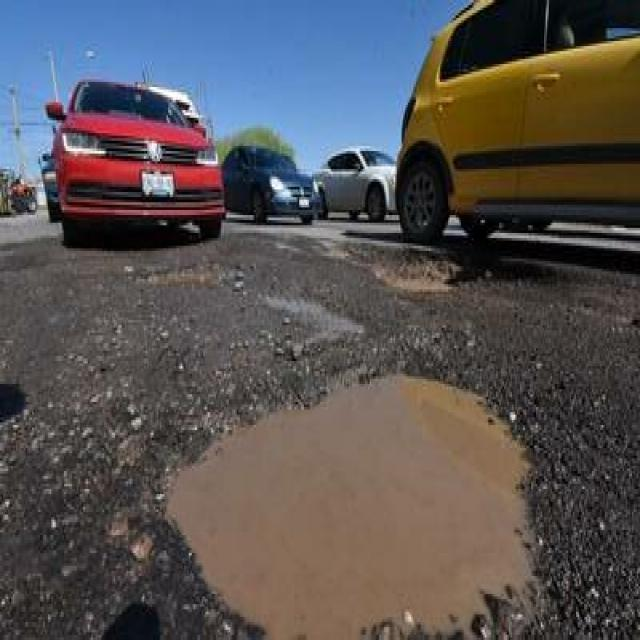Pothole: (157, 343, 574, 640)
